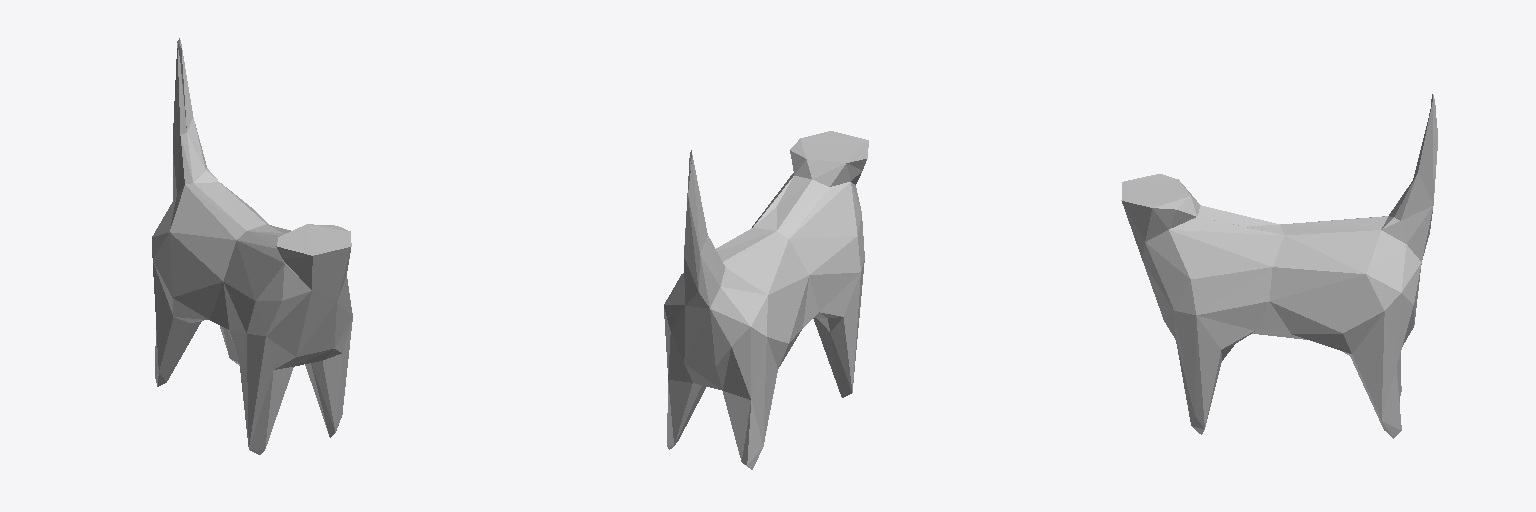
File: catbody_normal.obj
3 views of the same model, side by side, from view 1: azimuth 30°, elevation 25°; view 2: azimuth 150°, elevation 25°; view 3: azimuth 270°, elevation 25° (orthographic).
Parts seen in each view (by area): view 1: Cube.002_Cube.002; view 2: Cube.002_Cube.002; view 3: Cube.002_Cube.002.
Part boxes in pixels (left/top/right/bottom): Cube.002_Cube.002: left=152, top=38, right=352, bottom=454; Cube.002_Cube.002: left=664, top=131, right=868, bottom=469; Cube.002_Cube.002: left=1121, top=94, right=1437, bottom=438.
Size of the model in its own units: 1.78 by 5.31 by 4.69.